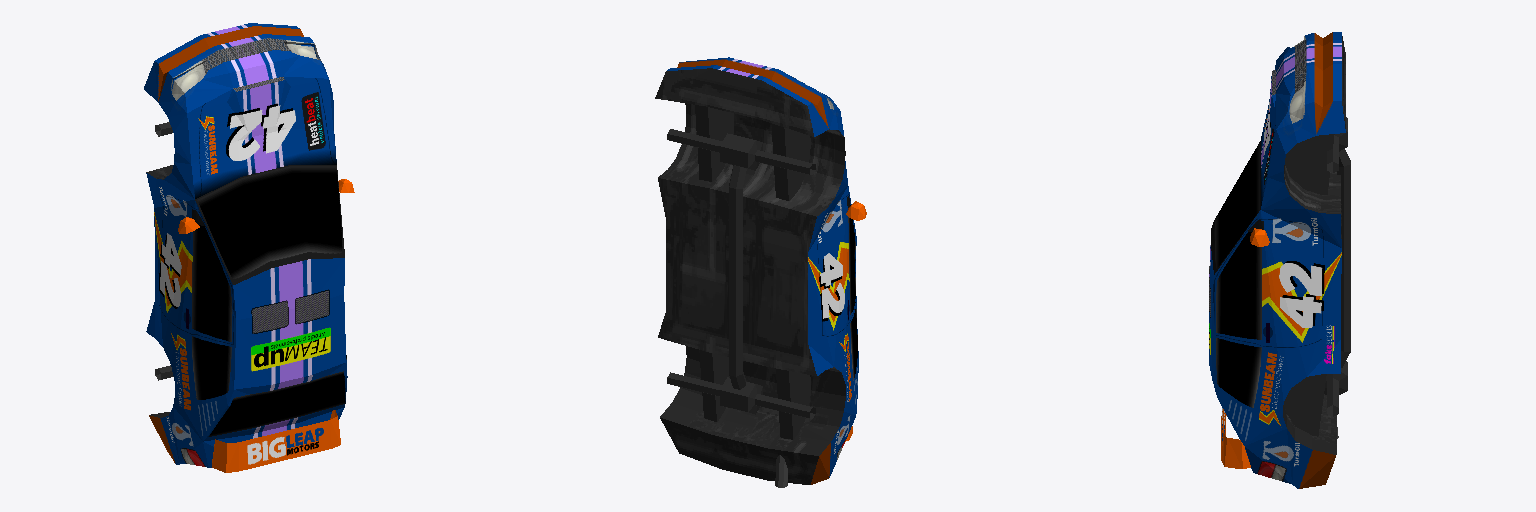
3 views of the same model, side by side, from view 1: azimuth 30°, elevation 25°; view 2: azimuth 150°, elevation 25°; view 3: azimuth 270°, elevation 25° (orthographic).
Visible parts, largest first — view 1: seat_seat.0; view 2: seat_seat.0; view 3: seat_seat.0.
Boxes of the visible parts, <box> form: seat_seat.0: <box>144,23,354,472</box>; seat_seat.0: <box>655,57,866,487</box>; seat_seat.0: <box>1209,32,1350,488</box>.
Bounding box in the file's own units: 161 × 360 × 113.
1 materials, 1 textured.